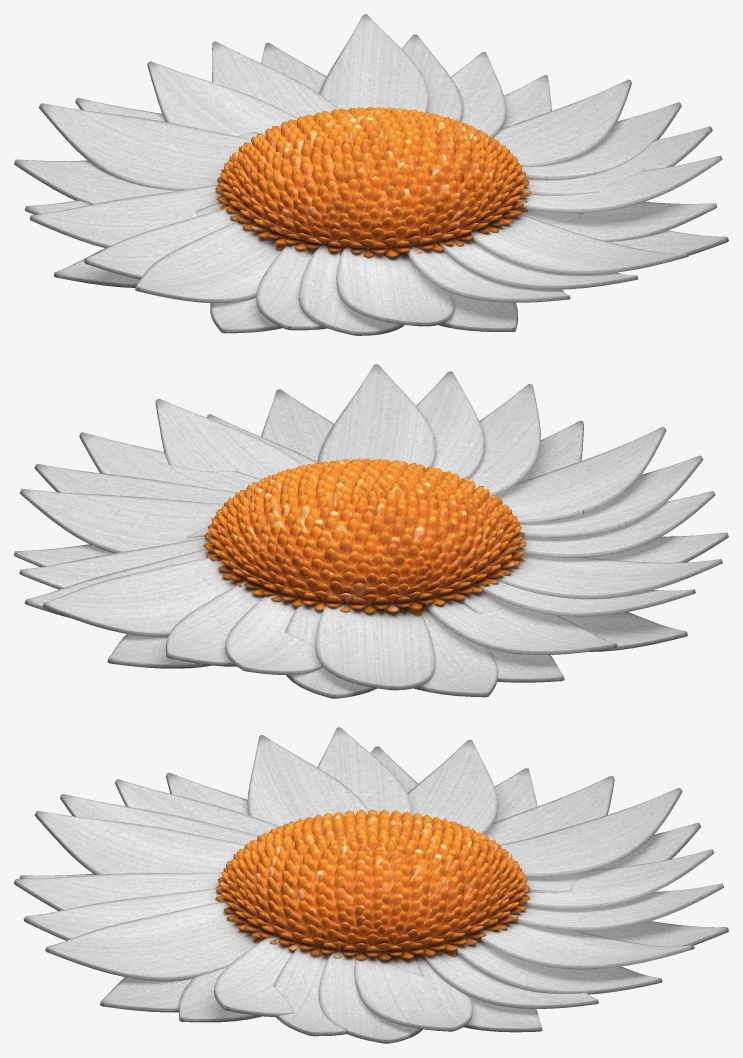
Rendered from rhodanthe.glb.
The picture shows the model from 3 angles, top to bottom: view 1: azimuth 30°, elevation 25°; view 2: azimuth 150°, elevation 25°; view 3: azimuth 270°, elevation 25°; orthographic projection. The views are drawn at different scales.
Parts seen in each view (by area): view 1: Cube; view 2: Cube; view 3: Cube.
Part boxes in pixels (x1,y1,x2,y2): Cube: (14,14,728,335); Cube: (14,364,728,698); Cube: (14,727,728,1043).
Bounding box in the file's own units: 1 × 0.1399 × 0.9818.
2 materials, 2 textured.
